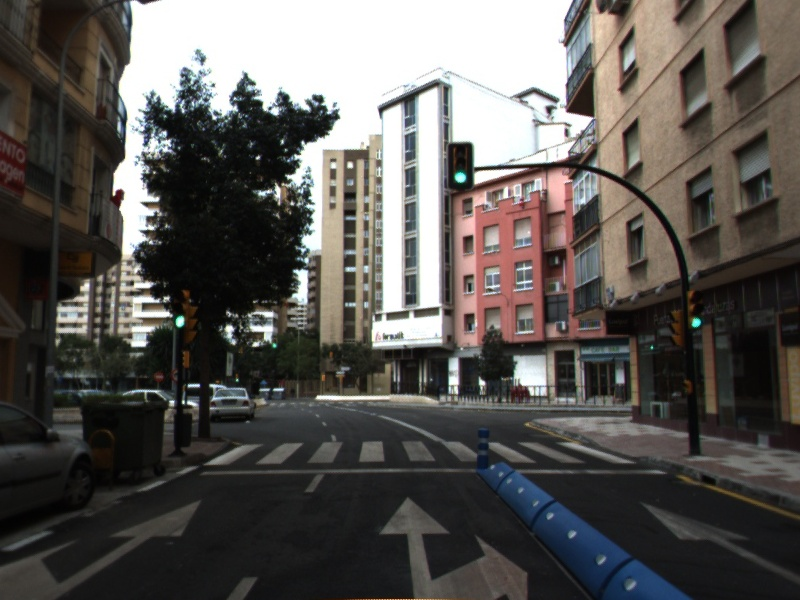STRAIGHT: (633, 497, 800, 584)
STRAIGHT_LEFT: (1, 495, 208, 600)
STRAIGHT_RIGHT: (375, 493, 531, 600)
